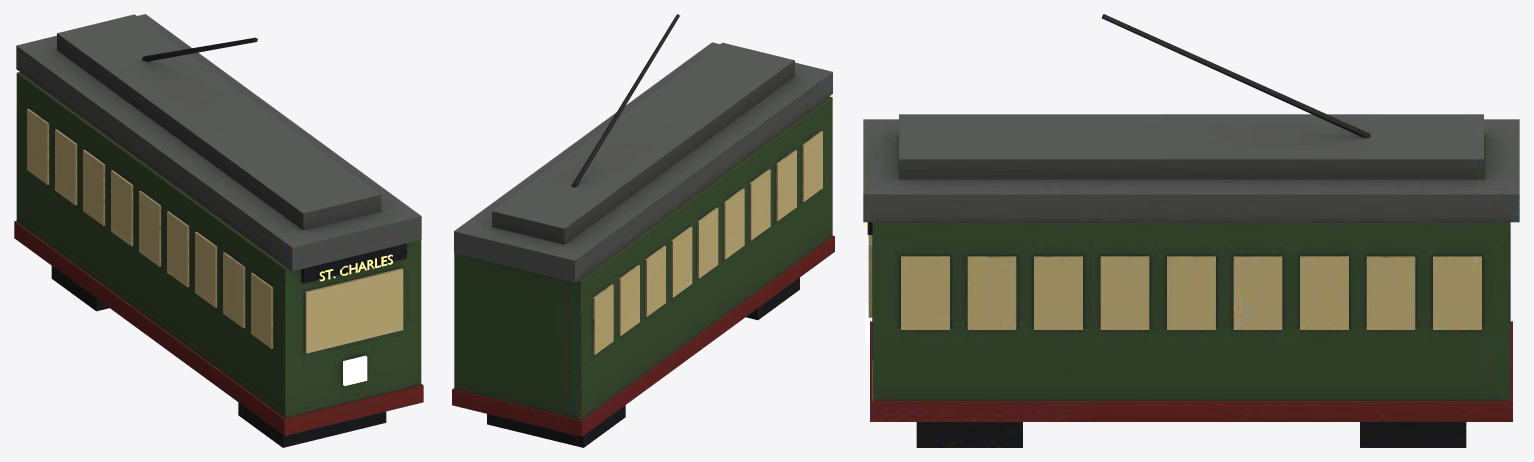
Rendered from tranvia_nola.glb.
The picture shows the model from 3 angles, left to right: view 1: azimuth 30°, elevation 25°; view 2: azimuth 150°, elevation 25°; view 3: azimuth 270°, elevation 25°; orthographic projection. The views are drawn at different scales.
Visible parts, largest first — view 1: tranvia_nola; view 2: tranvia_nola; view 3: tranvia_nola.
Boxes of the visible parts, x1=… form: tranvia_nola: x1=14, y1=14, x2=423, y2=447; tranvia_nola: x1=452, y1=14, x2=834, y2=447; tranvia_nola: x1=863, y1=14, x2=1519, y2=447.
Size of the model in its own units: 2.16 by 5.03 by 7.4.
Materials: 1 (1 with a texture image).
